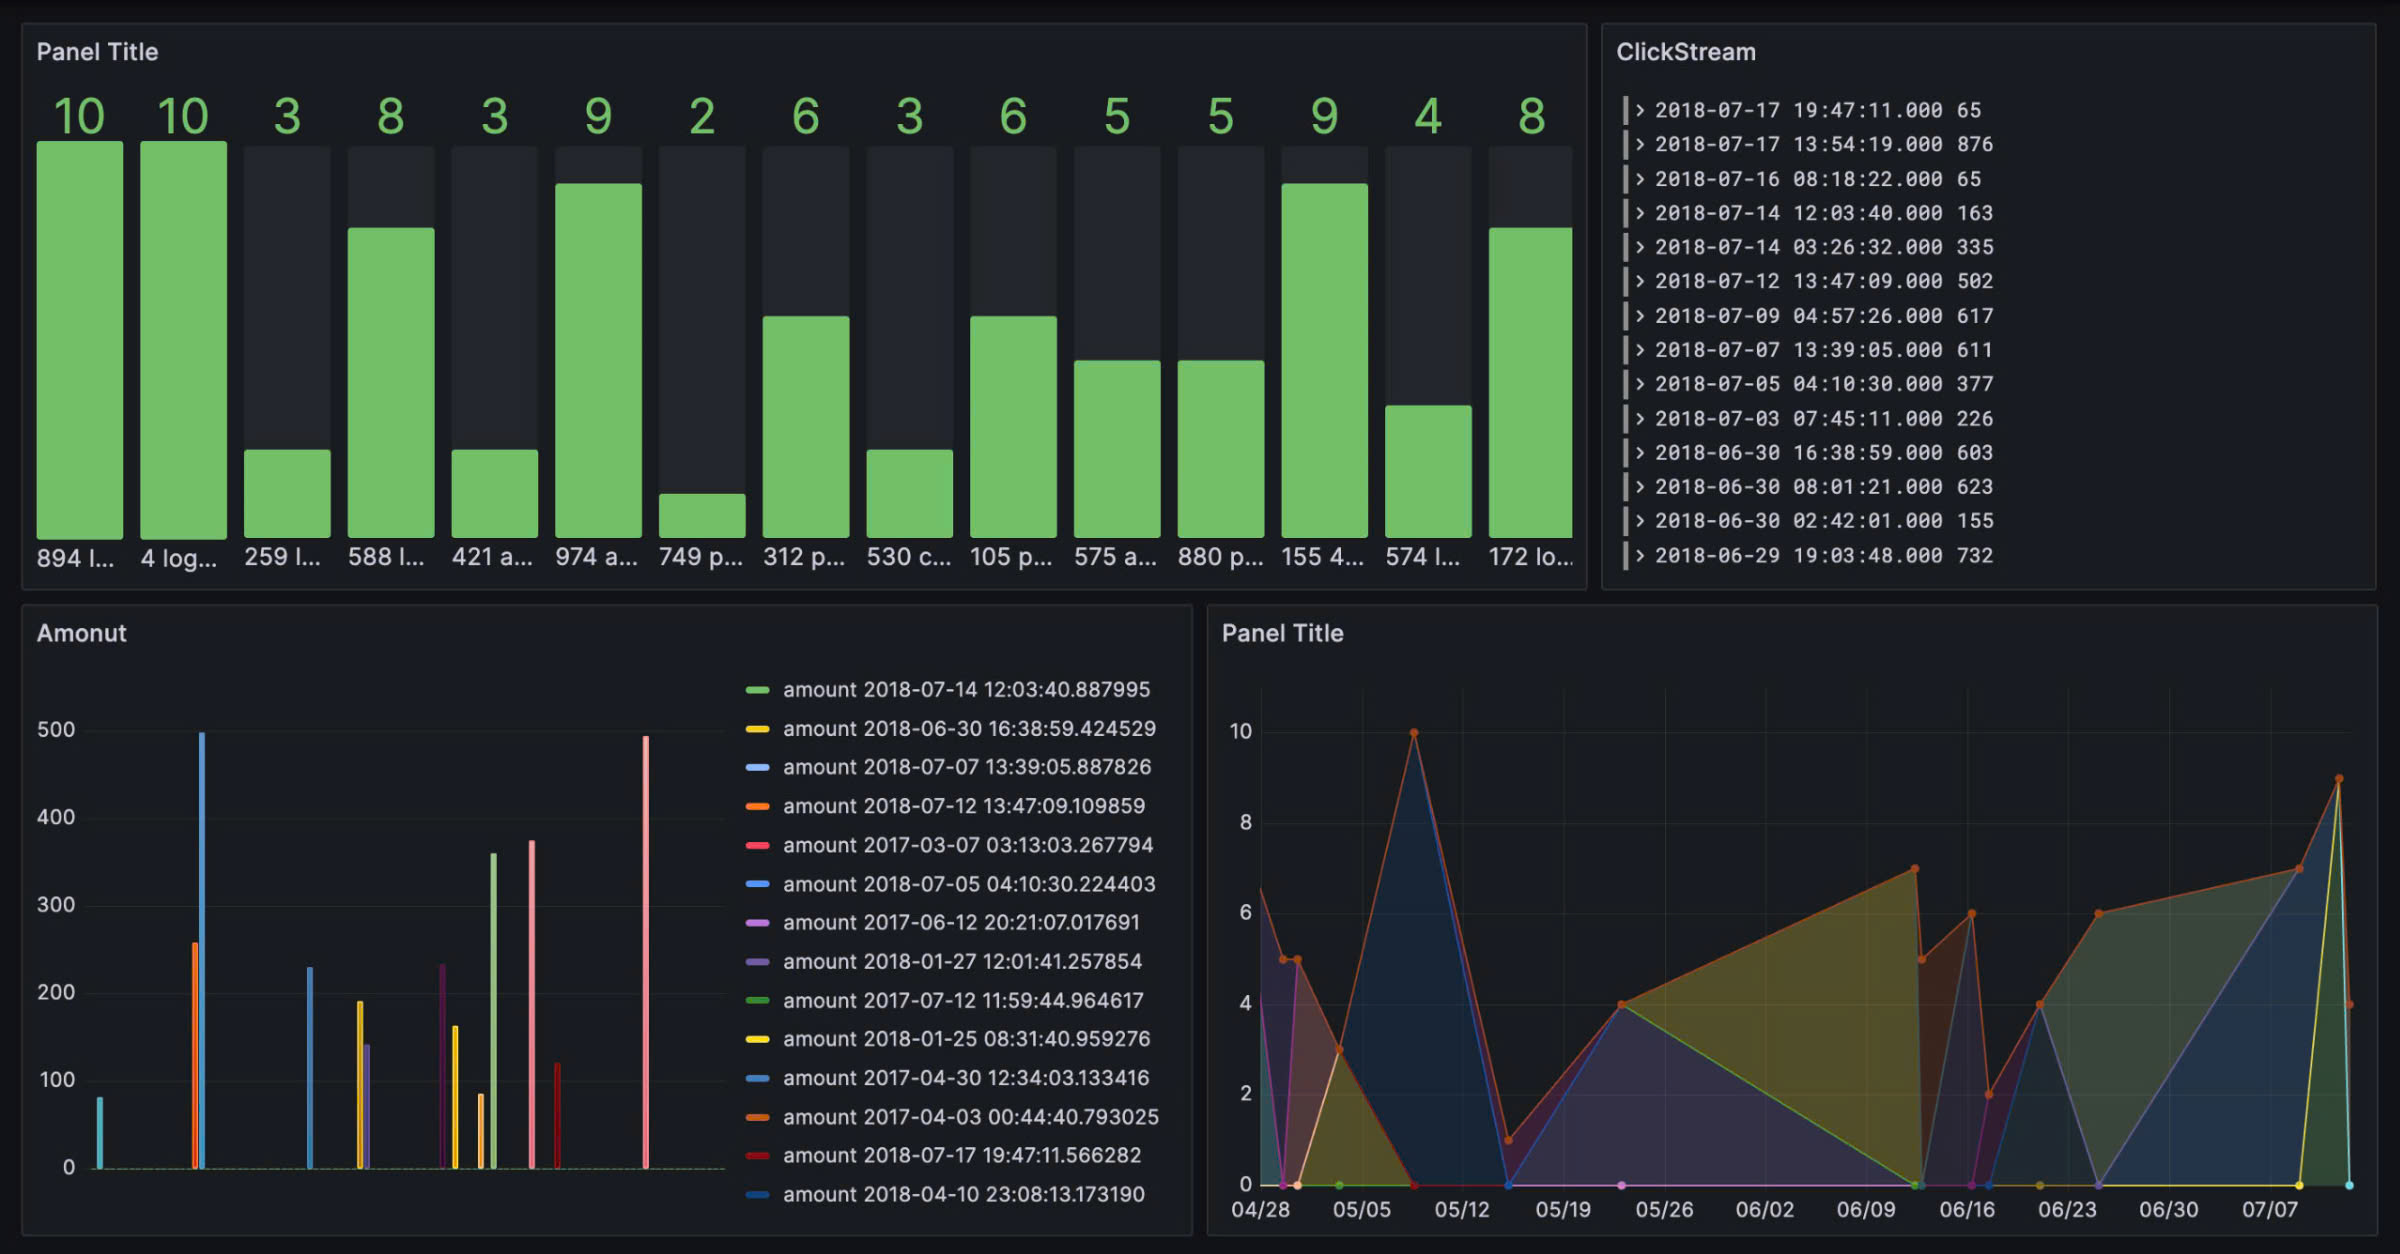

The page's visual inventory and layout, read from the dashboard file:
{"tool":"powerbi","page":{"name":"ClickStream","canvas":[1280,720],"ordinal":2},"visuals":[{"type":"columnChart","fields":{"Y":["Sum(clickstream.amount)"],"Category":["clickstream.user_id"]},"box":[10.4,0,683.3,373],"z":0},{"type":"pieChart","fields":{"Category":["clickstream.session_id"],"Y":["CountNonNull(clickstream.product_id)"]},"box":[10,383,683,337],"z":1},{"type":"funnel","fields":{"Y":["Sum(clickstream.amount)"],"Category":["clickstream.session_id"]},"box":[703,0,577,373],"z":2},{"type":"areaChart","fields":{"Category":["clickstream.timestamp.Variation.Date Hierarchy.Year"],"Y":["Sum(clickstream.amount)"],"Y2":["CountNonNull(clickstream.outcome)"]},"box":[703,383,577,337],"z":3}]}

Visuals, with their boxes on the page's 1280x720 design canvas (x1, y1, x2, y2). These are canvas units, not pixel positions in the 2400x1254 screenshot, which may show the page scaled, cropped or inside an application window:
columnChart - Sum(clickstream.amount) x clickstream.user_id: bbox=(10, 0, 694, 373)
pieChart - clickstream.session_id x CountNonNull(clickstream.product_id): bbox=(10, 383, 693, 720)
funnel - Sum(clickstream.amount) x clickstream.session_id: bbox=(703, 0, 1280, 373)
areaChart - clickstream.timestamp.Variation.Date Hierarchy.Year x Sum(clickstream.amount): bbox=(703, 383, 1280, 720)
